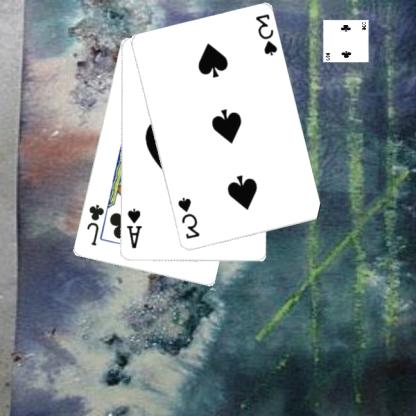3S: (176, 195, 203, 241), (254, 11, 281, 57)
AS: (125, 206, 145, 250)
JC: (85, 202, 107, 248)
